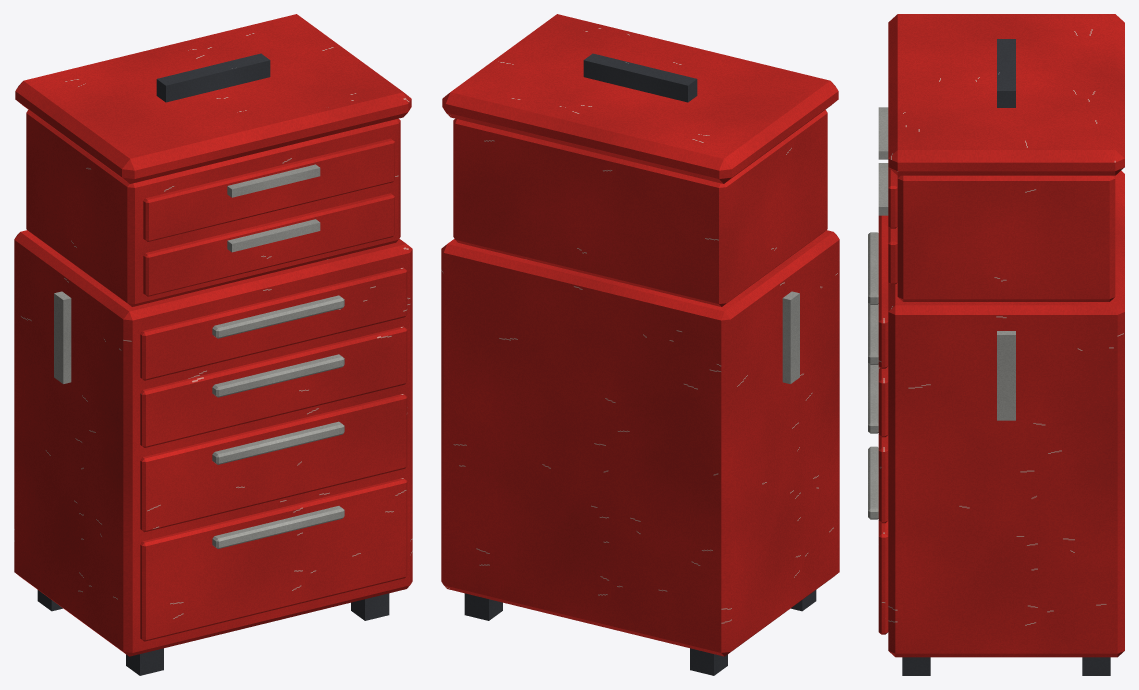
Rendered from Prop_Cabinet.fbx.
3 views of the same model, side by side, from view 1: azimuth 30°, elevation 25°; view 2: azimuth 150°, elevation 25°; view 3: azimuth 270°, elevation 25° (orthographic).
Visible parts, largest first — view 1: Prop_Cabinet; view 2: Prop_Cabinet; view 3: Prop_Cabinet.
Part boxes in pixels (x1,y1,x2,y2): Prop_Cabinet: (14, 14, 412, 675); Prop_Cabinet: (441, 14, 839, 675); Prop_Cabinet: (868, 14, 1124, 675).
Bounding box in the file's own units: 0.77 × 1.28 × 0.5425.
3 materials, 3 textured.
